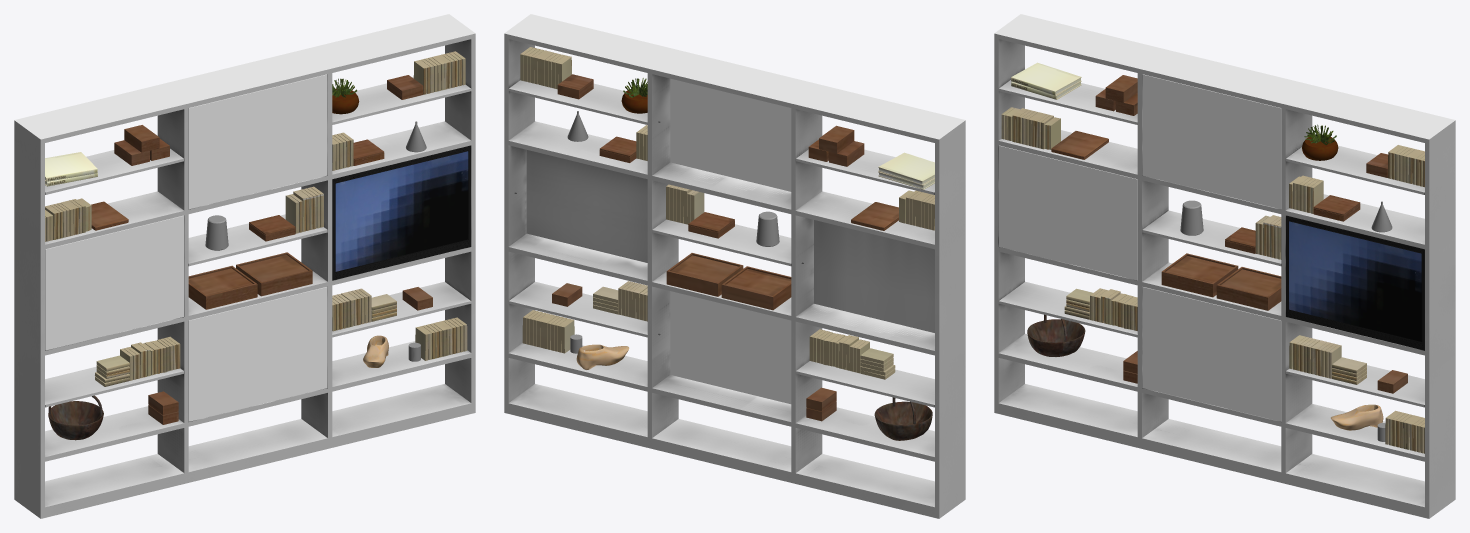
Rendered from shelf1.dae.
The picture shows the model from 3 angles, left to right: view 1: azimuth 30°, elevation 25°; view 2: azimuth 150°, elevation 25°; view 3: azimuth 330°, elevation 25°; orthographic projection.
Visible parts, largest first — view 1: shelf; view 2: shelf; view 3: shelf.
Boxes of the visible parts, x1,y1,x2,y2 form: shelf: (14,14,475,518); shelf: (504,14,965,518); shelf: (994,14,1455,518).
Bounding box in the file's own units: 3 × 2.5 × 0.3469.
